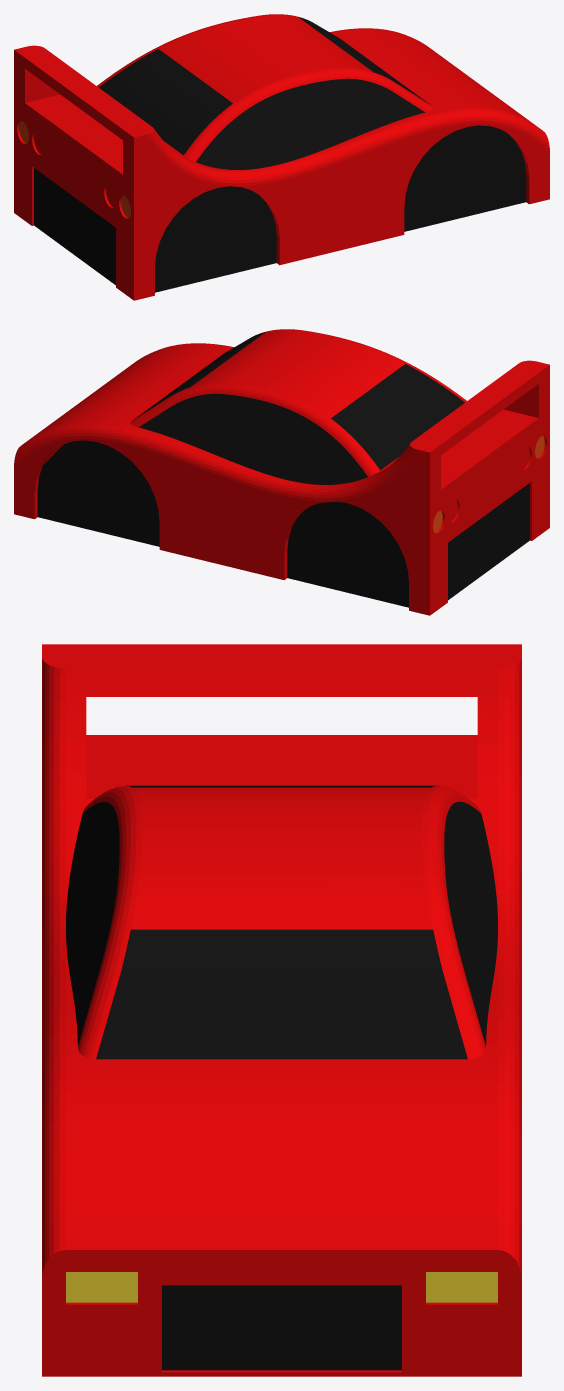
3 renders of one model, top to bottom at view 1: azimuth 30°, elevation 25°; view 2: azimuth 150°, elevation 25°; view 3: azimuth 270°, elevation 25°, orthographic. The views are drawn at different scales.
Parts seen in each view (by area): view 1: base_link; view 2: base_link; view 3: base_link.
Part boxes in pixels (x1=…): base_link: x1=14, y1=14, x2=549, y2=300; base_link: x1=14, y1=329, x2=549, y2=615; base_link: x1=42, y1=644, x2=521, y2=1376.
Bounding box in the file's own units: 0.4 × 0.2 × 0.15.
